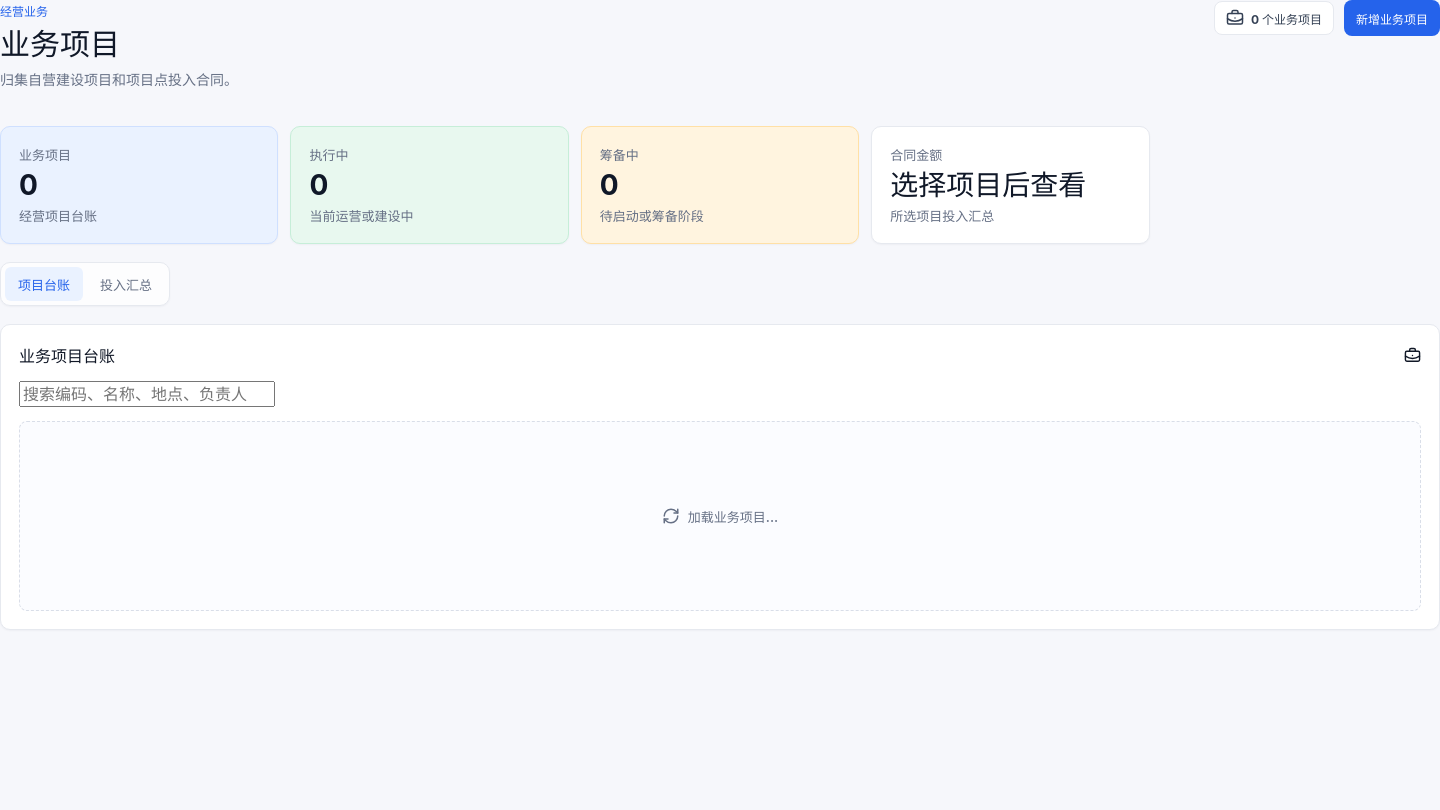
Test case: BusinessProjectsWorkspace 行内校验 › 结束日期早于开始日期时显示跨字段错误
Click the button "新增业务项目".
click(1392, 18)  # box [1344,0,1439,36]
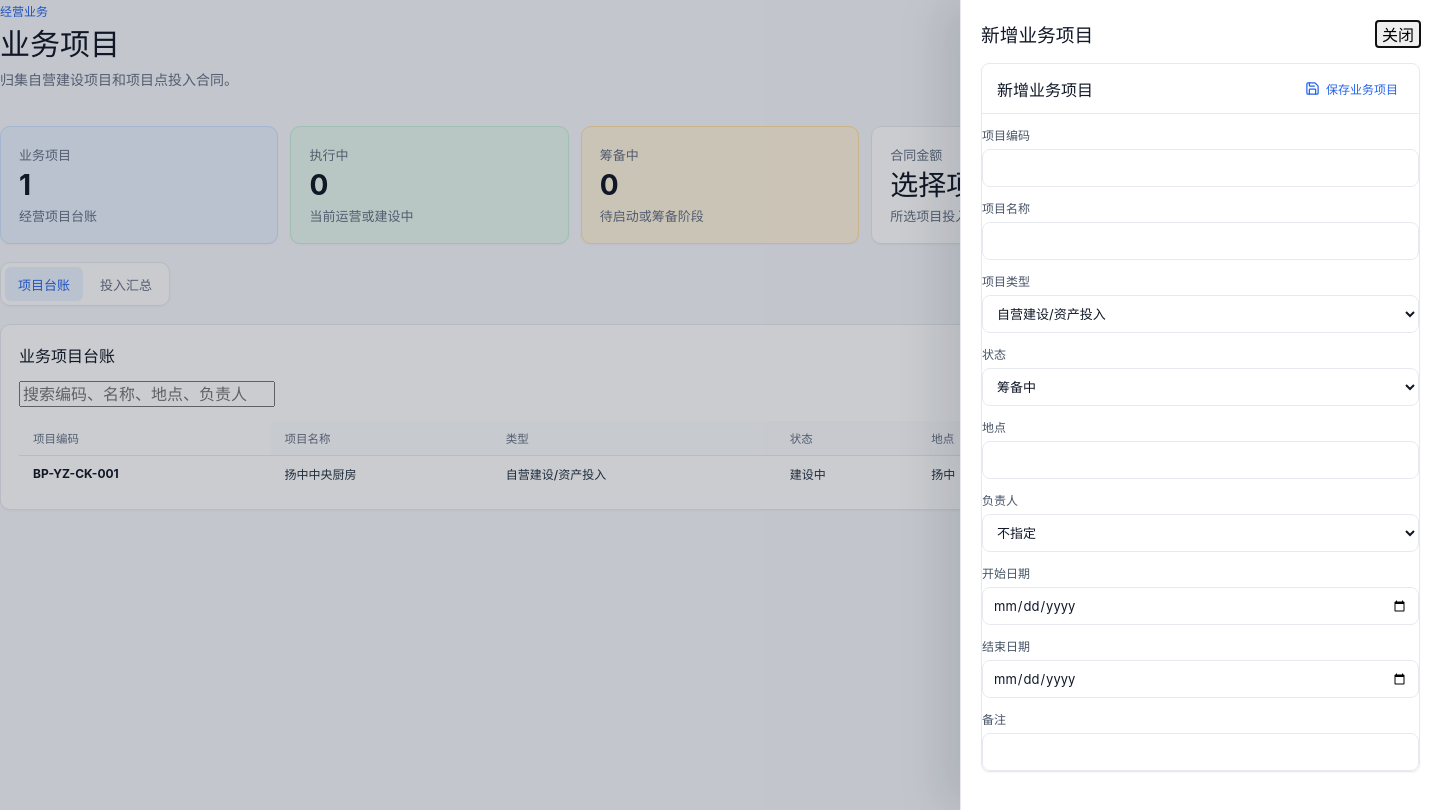
Type "BP-1" into the field labelled "项目编码".
click(1200, 168); type("BP-1")  # box [982,149,1419,187]
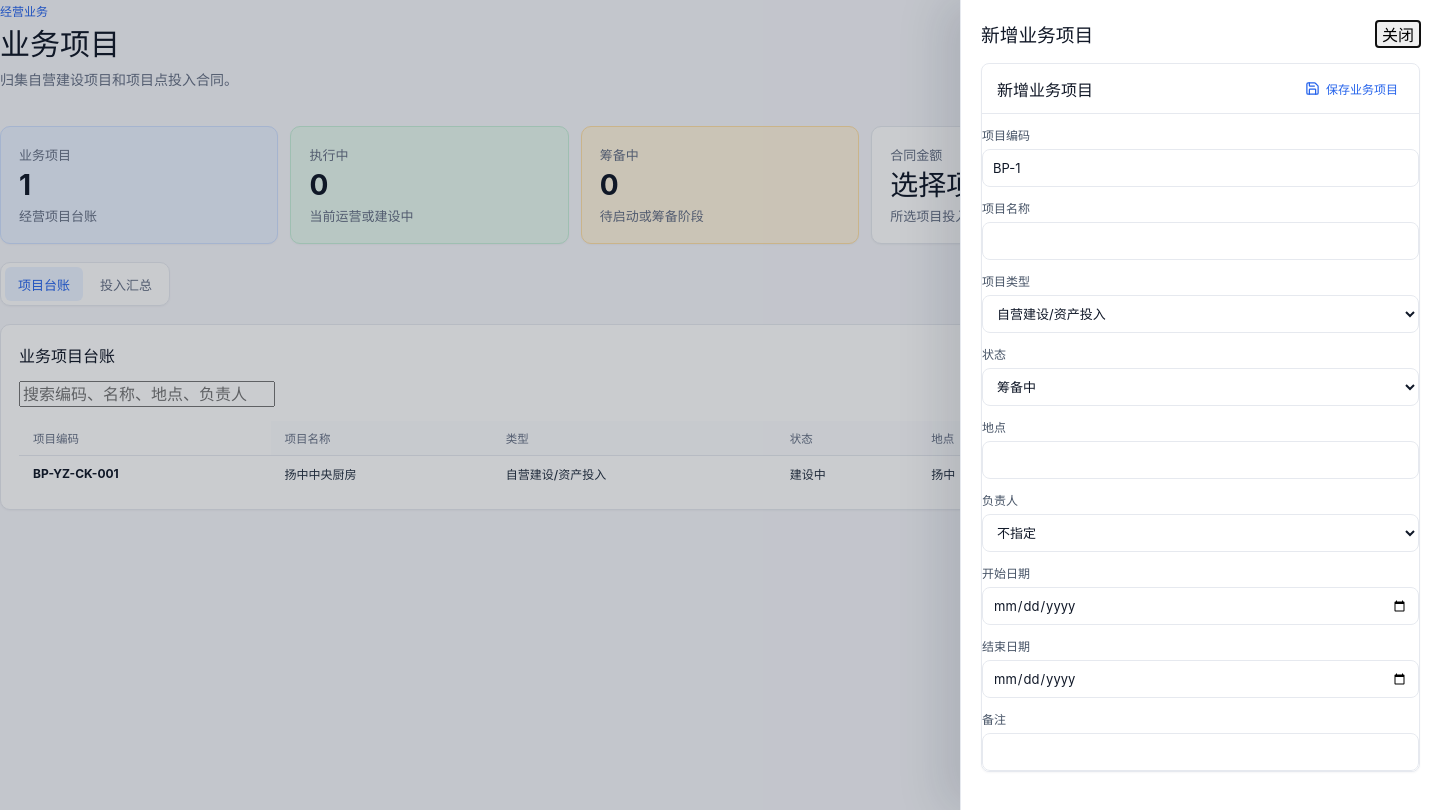
Type "测试项目" into the field labelled "项目名称".
click(1200, 241); type("测试项目")  # box [982,222,1419,260]
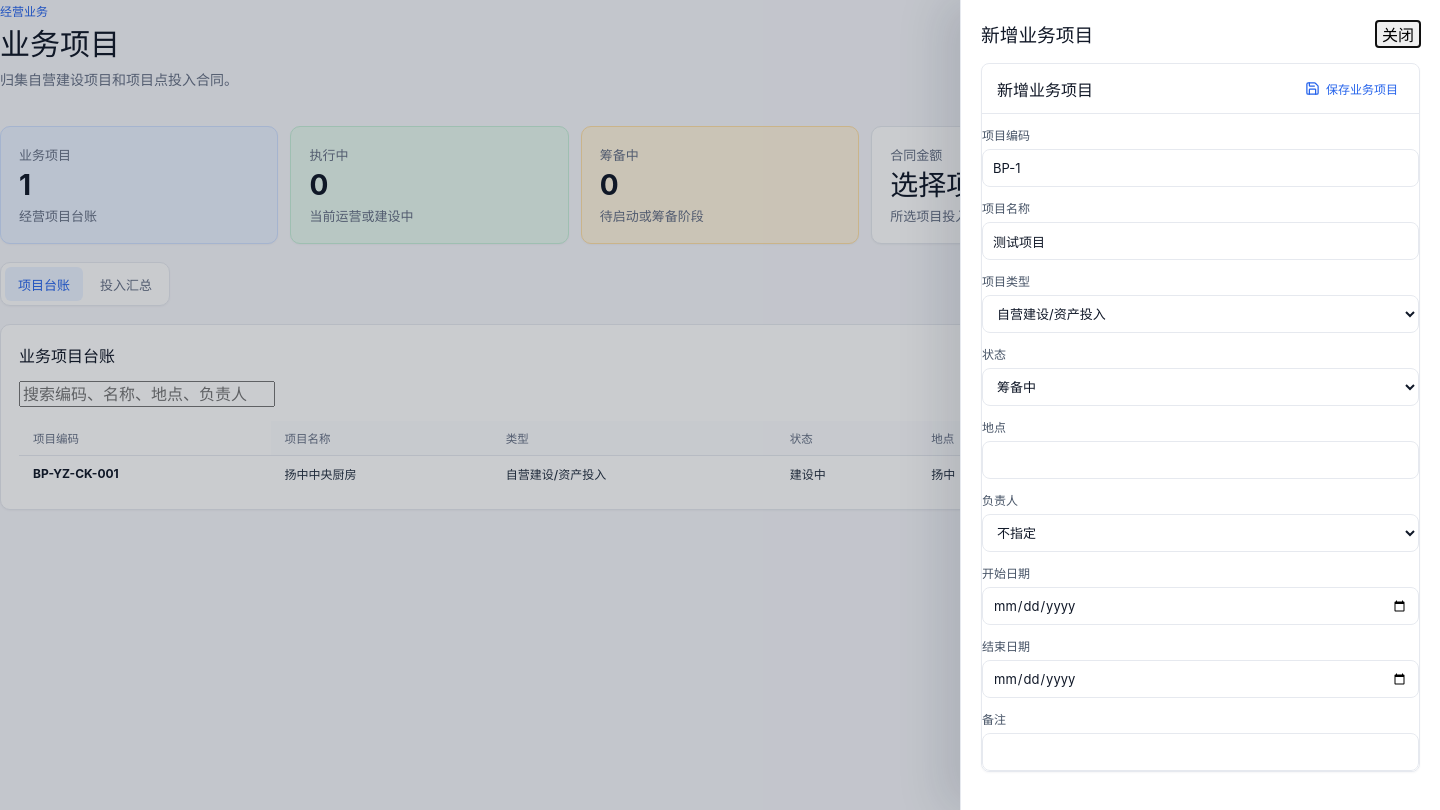
Type "2026-06-10" into the date field labelled "开始日期".
click(1200, 606); type("2026-06-10")  # box [982,587,1419,625]
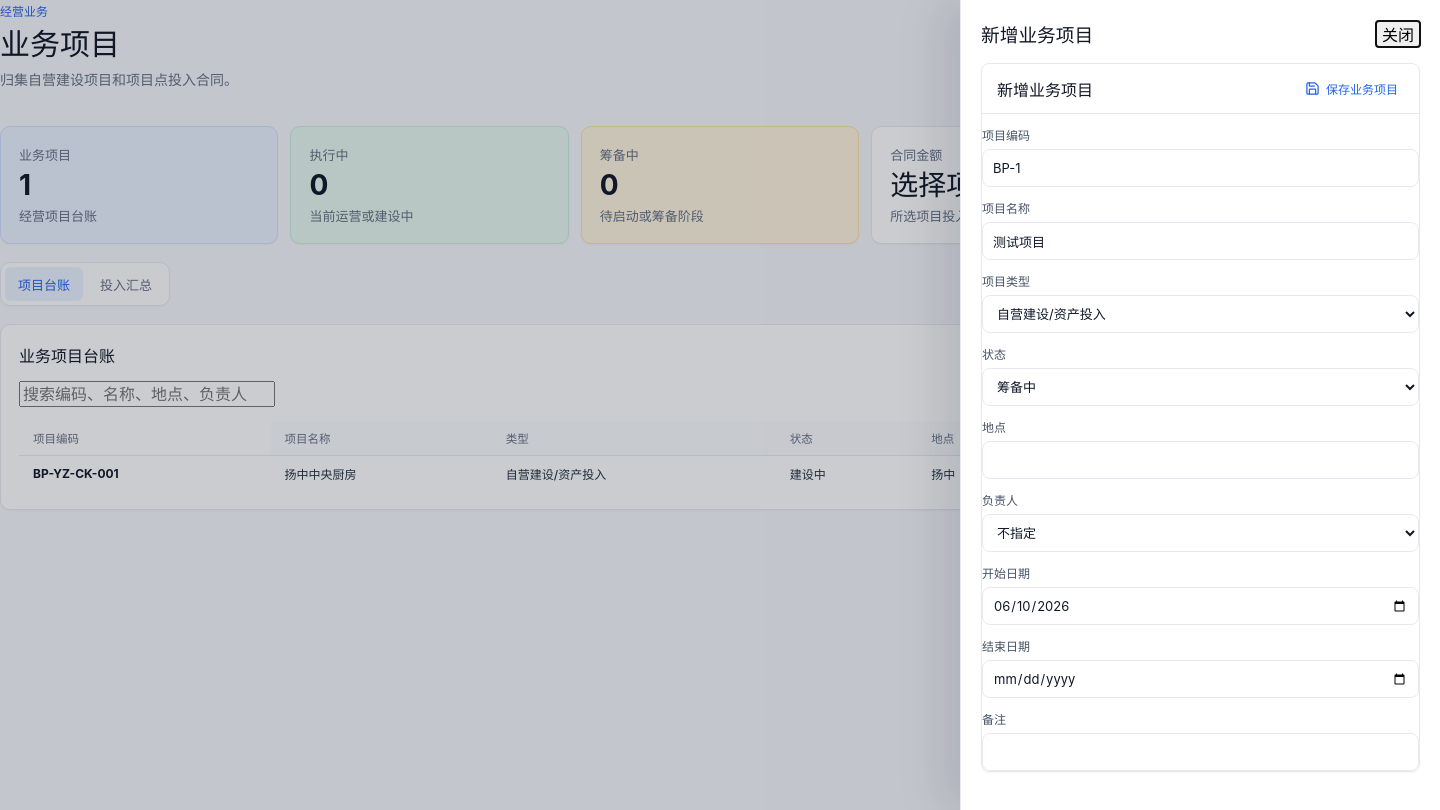
Type "2026-06-01" into the date field labelled "结束日期".
click(1200, 679); type("2026-06-01")  # box [982,660,1419,698]
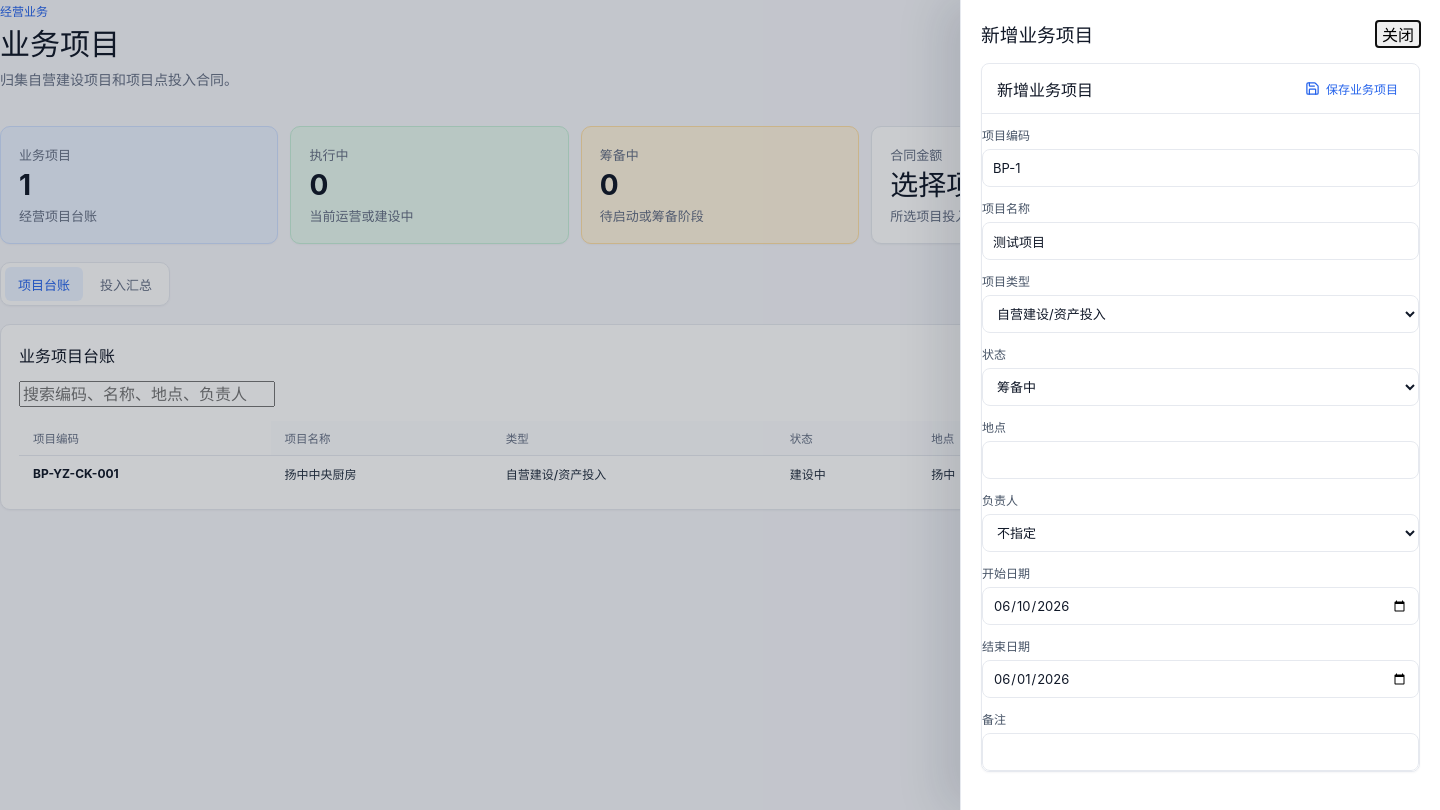
Click the button "保存业务项目".
click(1352, 88)  # box [1299,79,1404,98]
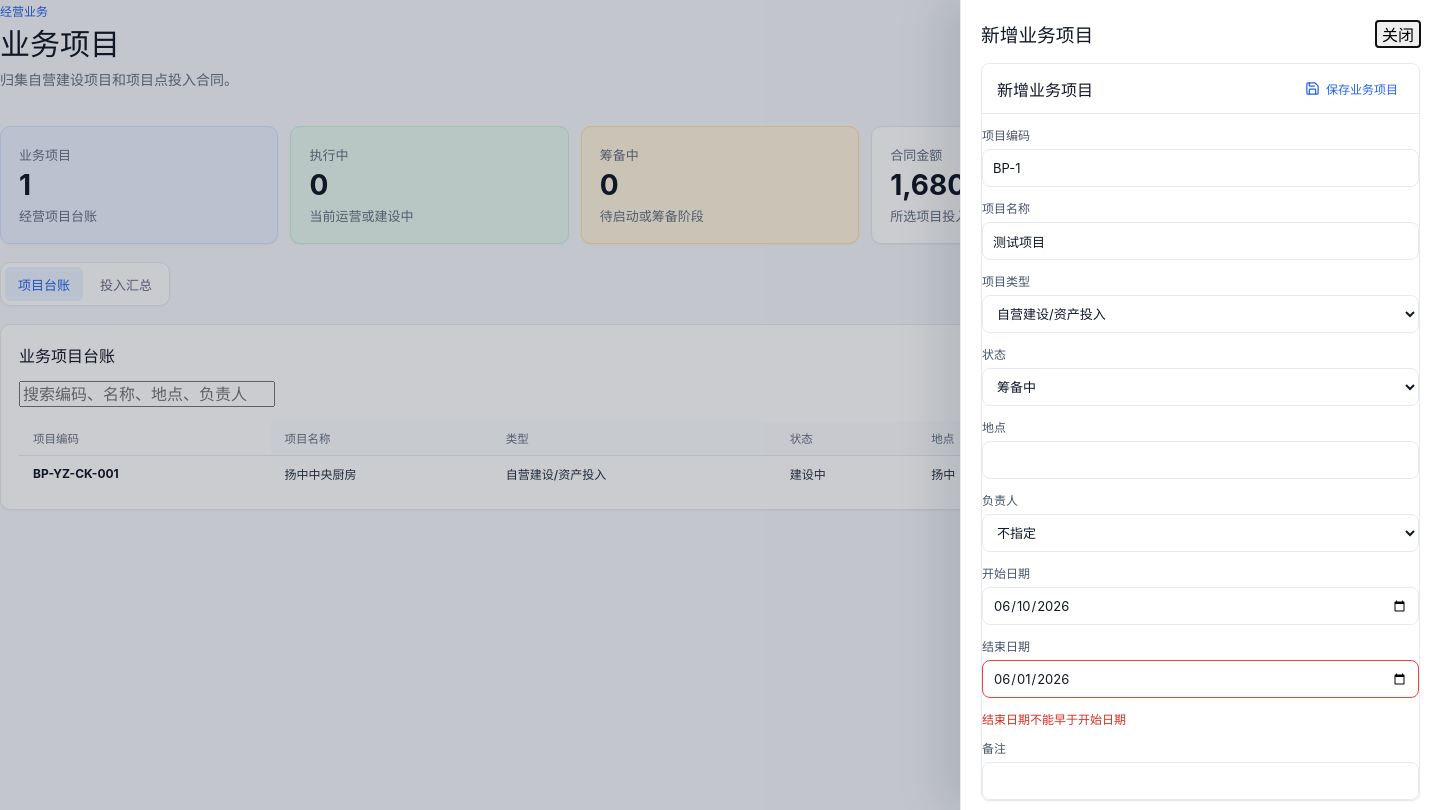
expect the text "结束日期不能早于开始日期" is shown: met, box [982,712,1126,727]
